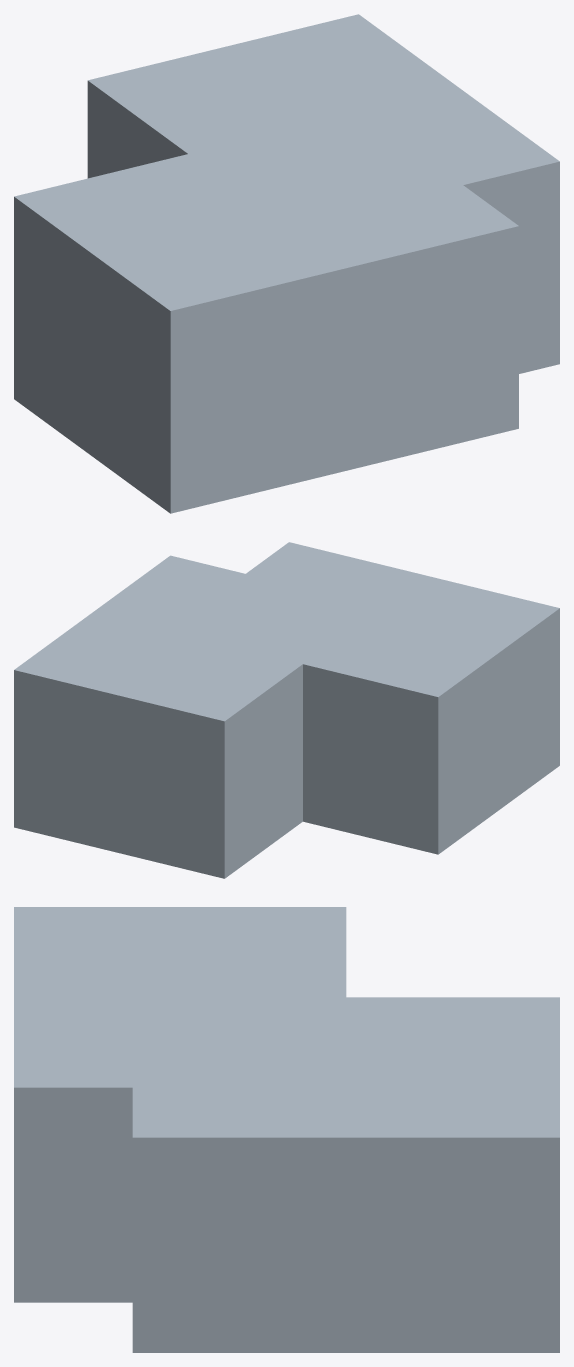
The model's file is fit-rect-elbow-90.glb.
3 views of the same model, one above another, from view 1: azimuth 30°, elevation 25°; view 2: azimuth 150°, elevation 25°; view 3: azimuth 270°, elevation 25° (orthographic). The views are drawn at different scales.
Visible parts, largest first — view 1: hvac-fitting-rect-elbow-90; view 2: hvac-fitting-rect-elbow-90; view 3: hvac-fitting-rect-elbow-90.
Part boxes in pixels (left/top/right/bottom): hvac-fitting-rect-elbow-90: left=14, top=14, right=559, bottom=513; hvac-fitting-rect-elbow-90: left=14, top=542, right=559, bottom=878; hvac-fitting-rect-elbow-90: left=14, top=907, right=559, bottom=1352.
Size of the model in its own units: 0.46 by 0.2 by 0.46.
